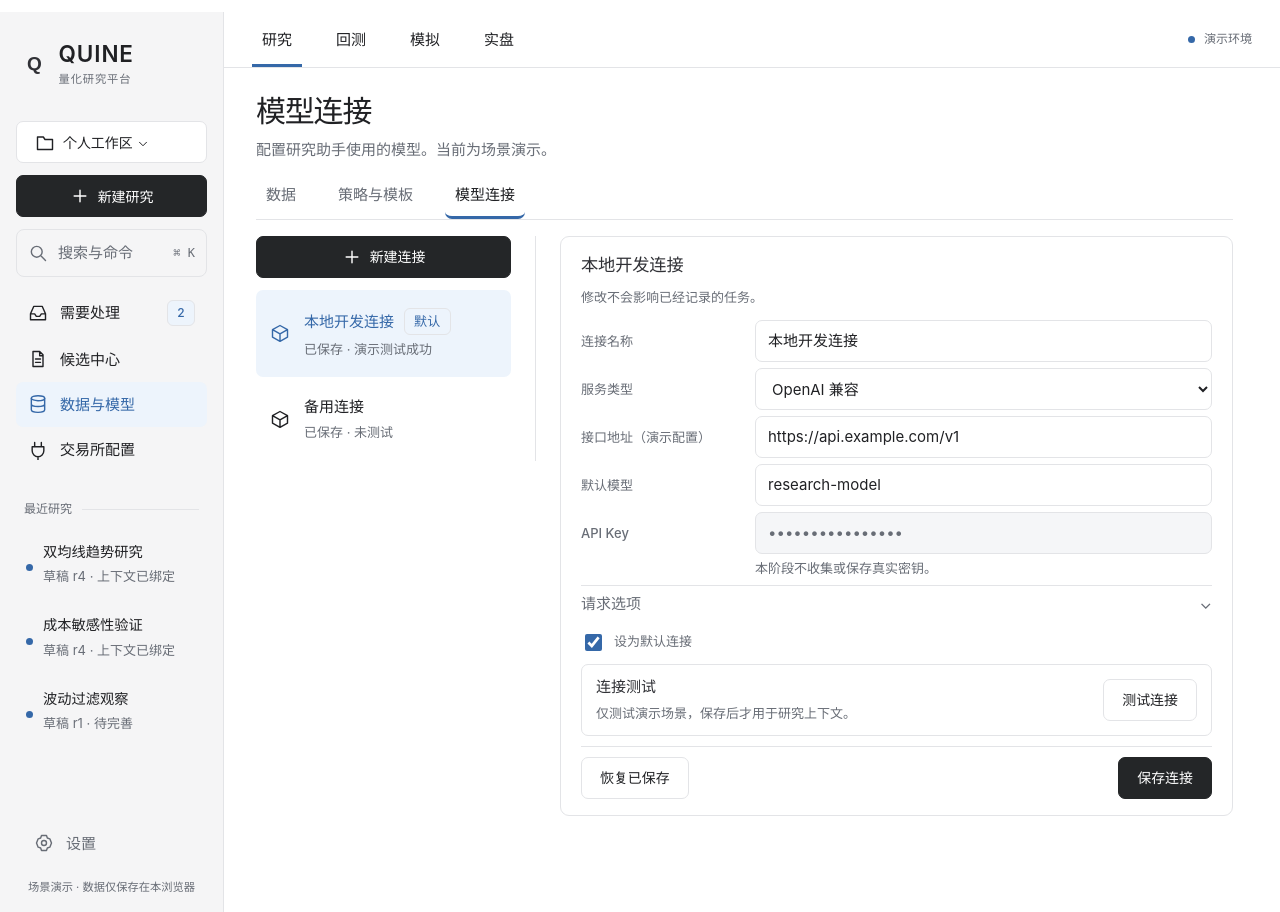
Test: 审查发现的输入恢复回归 › 测试完成不覆盖测试期间的新模型输入
Click the button "测试连接" at x=1150, y=700, box [1103,679,1197,721]
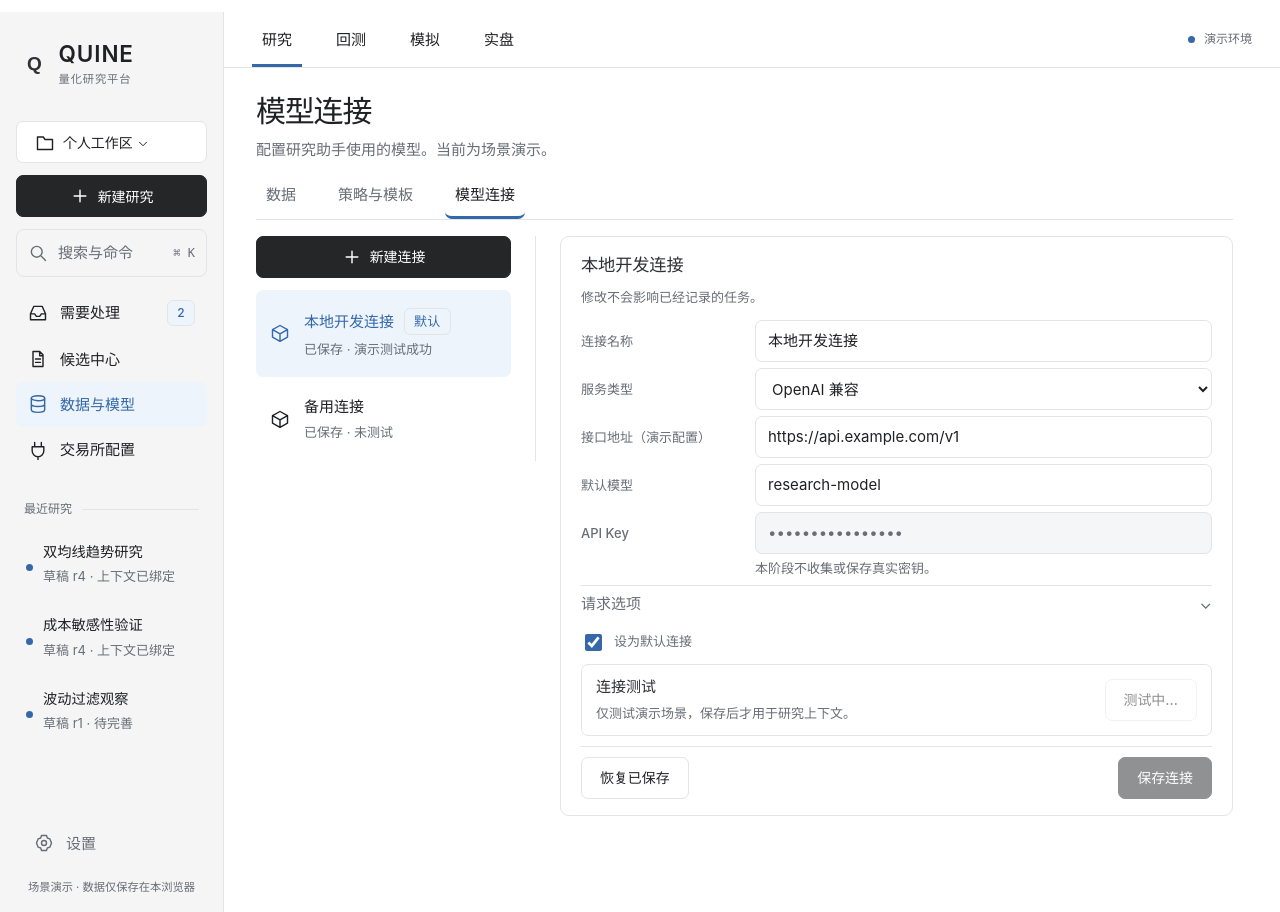
Replace the text in the field labelled "默认模型" with "newer-model" at x=984, y=485, box [755,464,1212,506]
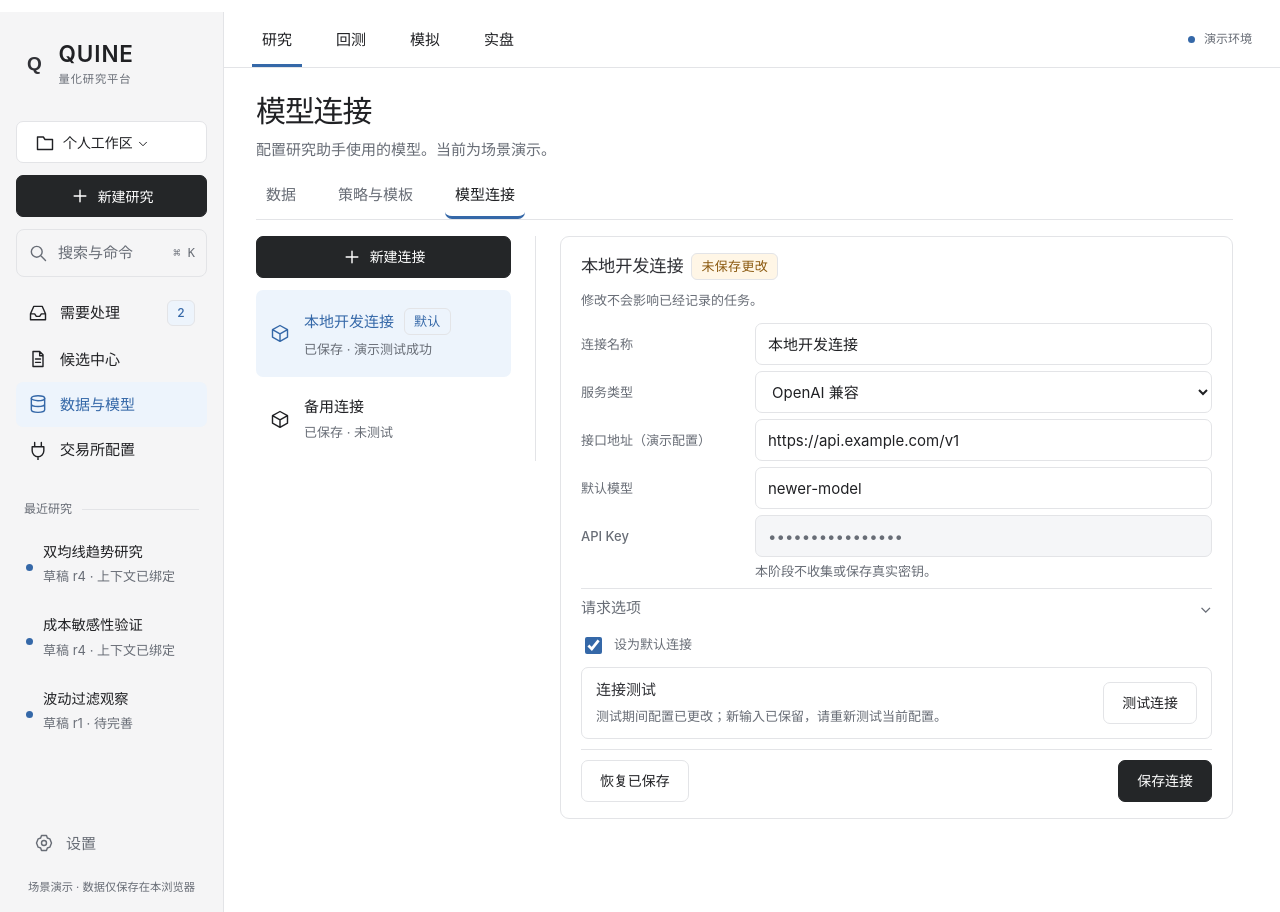
Result: the text "测试期间配置已更改；新输入已保留，请重新测试当前配置。" is shown at [596,706,947,728]
